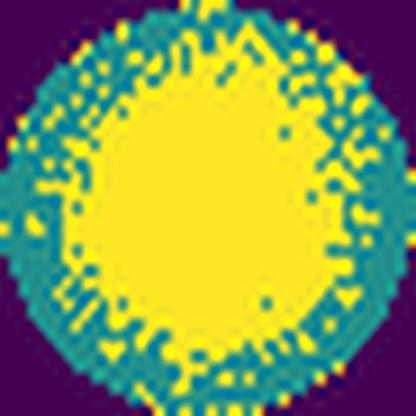Center: (61, 31, 352, 362)
